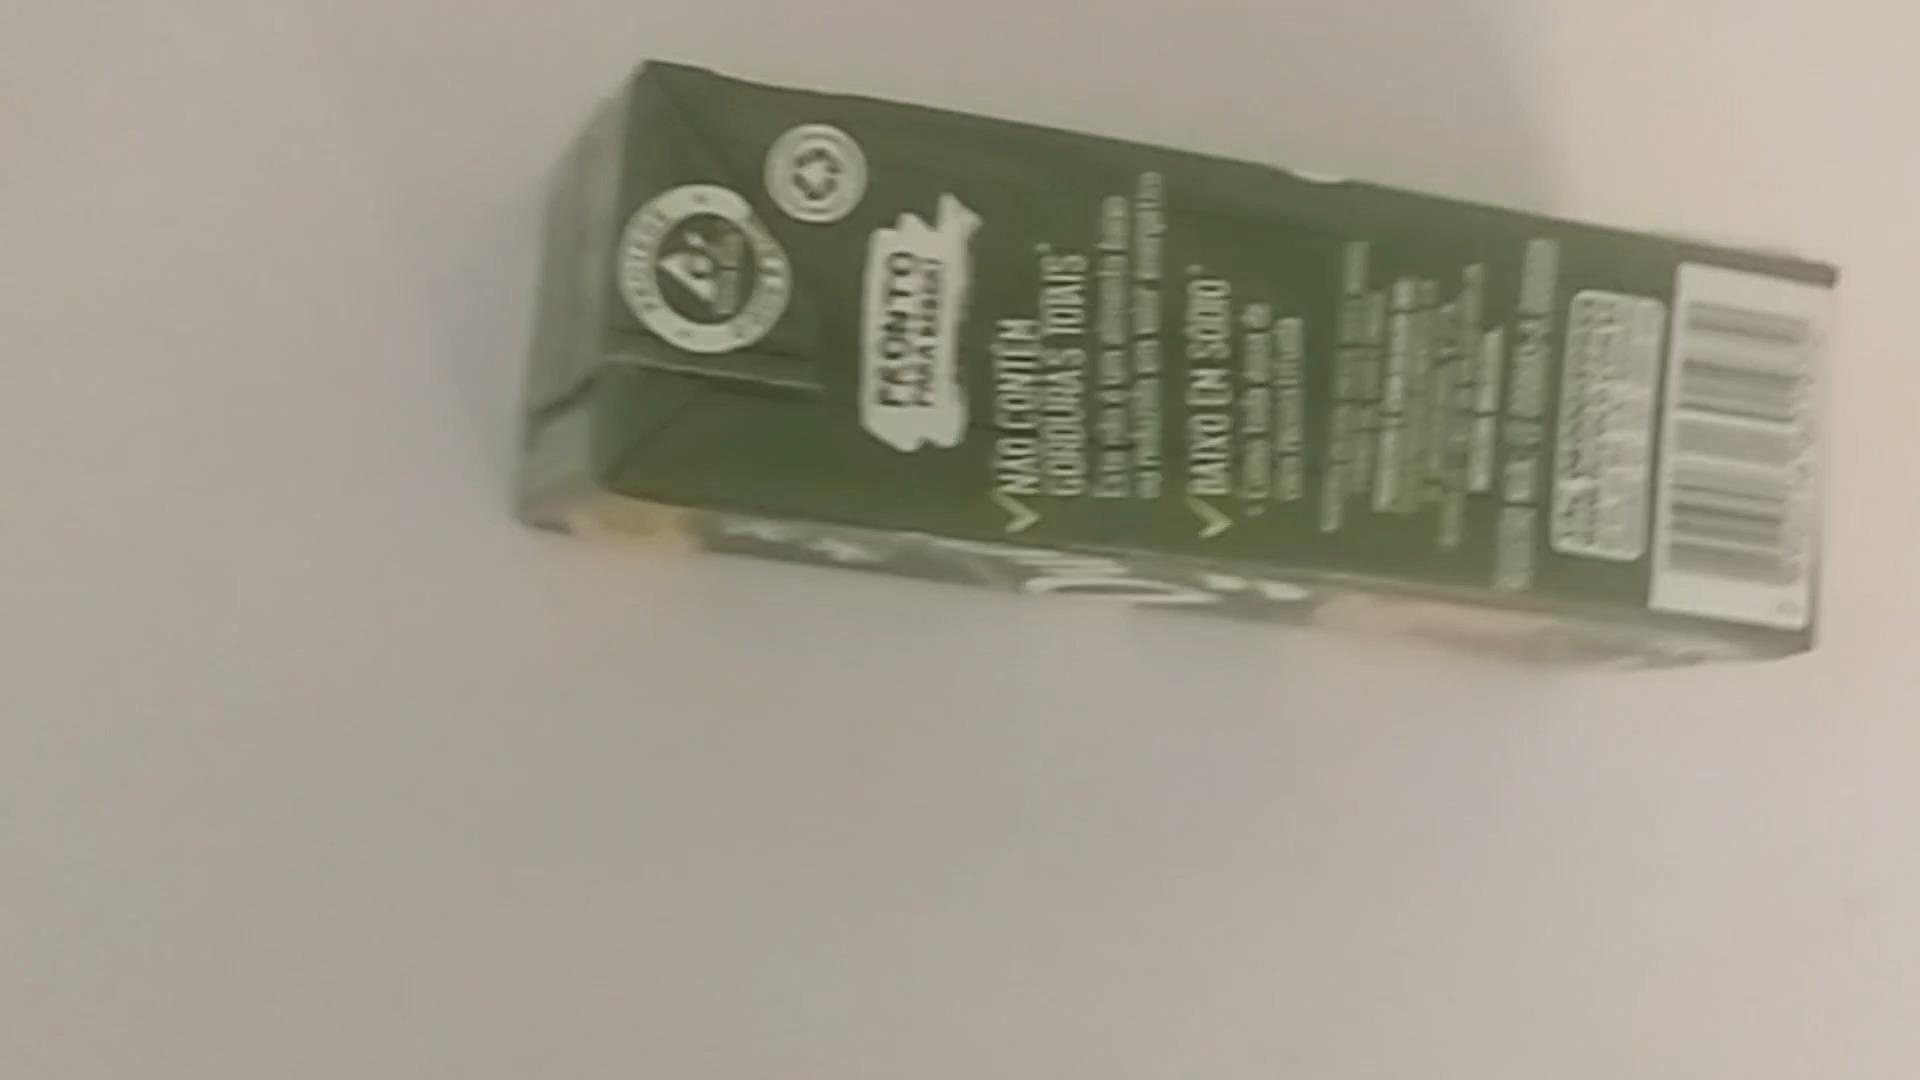coco: (520, 61, 1847, 655)
